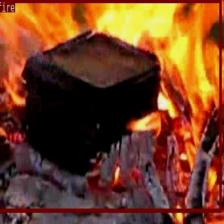fire: (0, 0, 221, 211)
